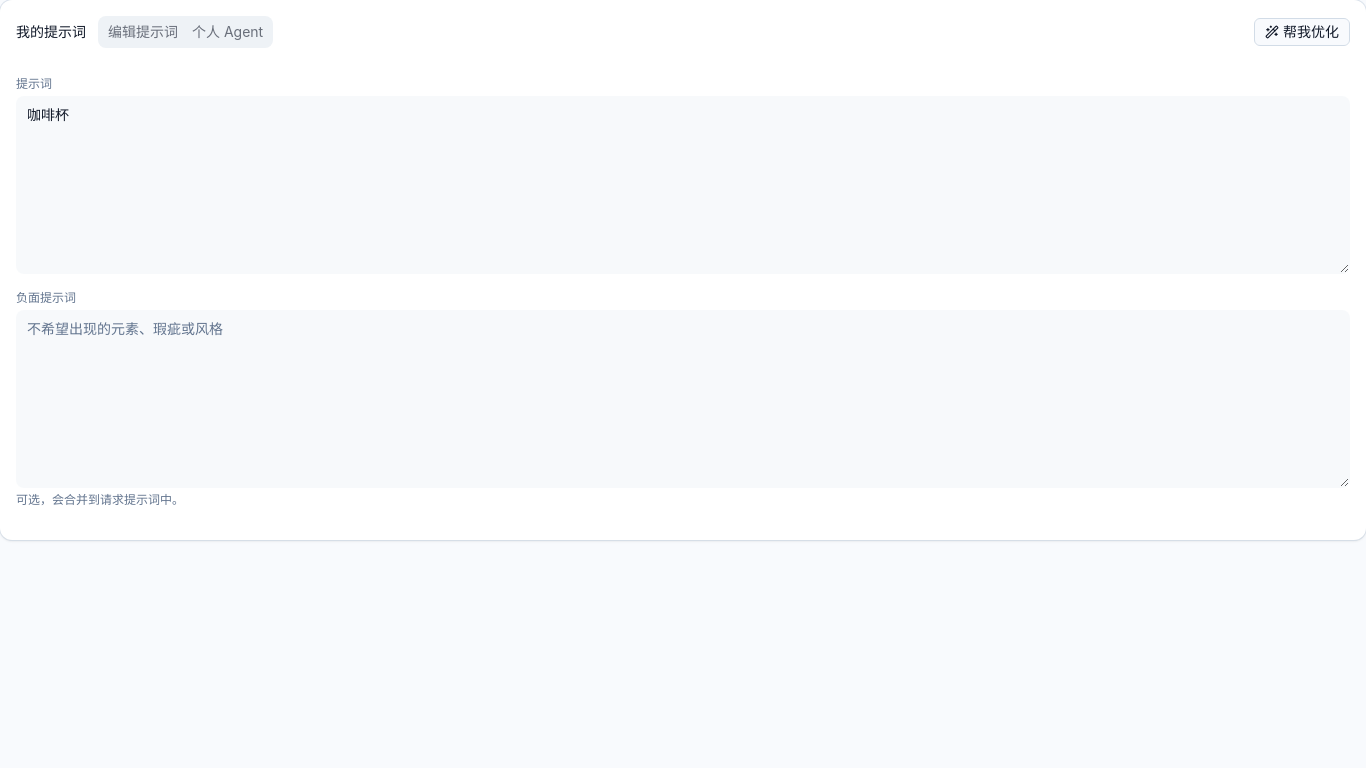
PromptEditor › applies optimized prompt and negative prompt together
Click the button "帮我优化": {"x": 1302, "y": 32} [1254,18,1350,46]
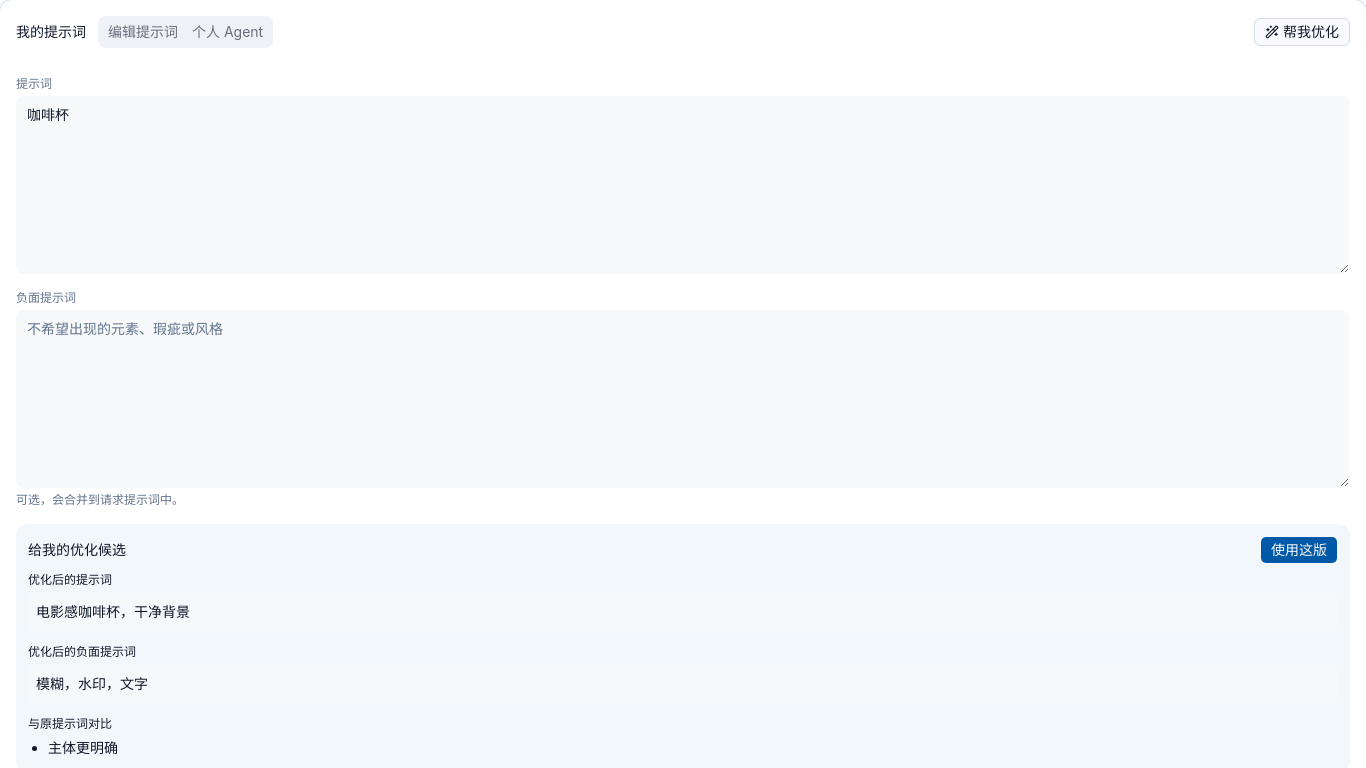
Check: the text "优化后的提示词" is shown, box [28,572,112,587]
Click the button "使用这版": {"x": 1299, "y": 550} [1260,536,1338,564]
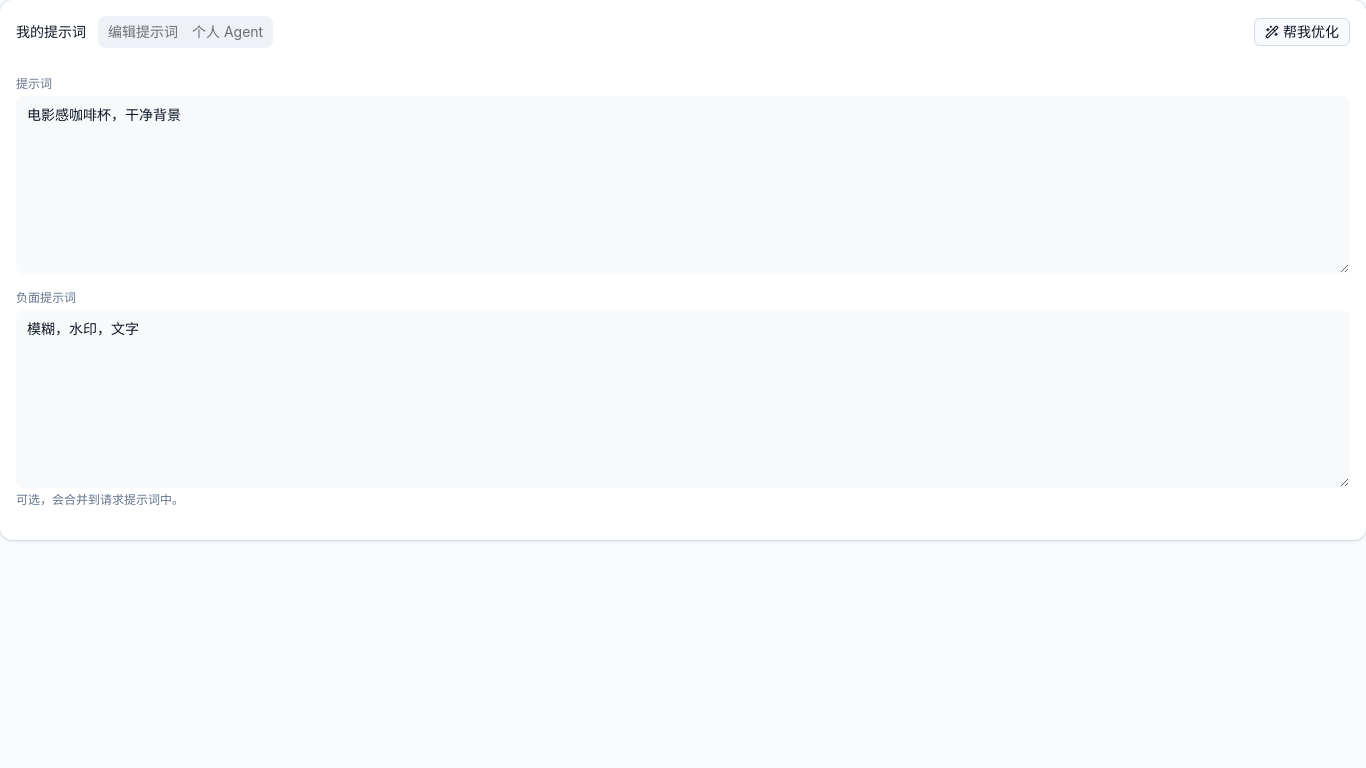
Check: the text "给我的优化候选" is gone
